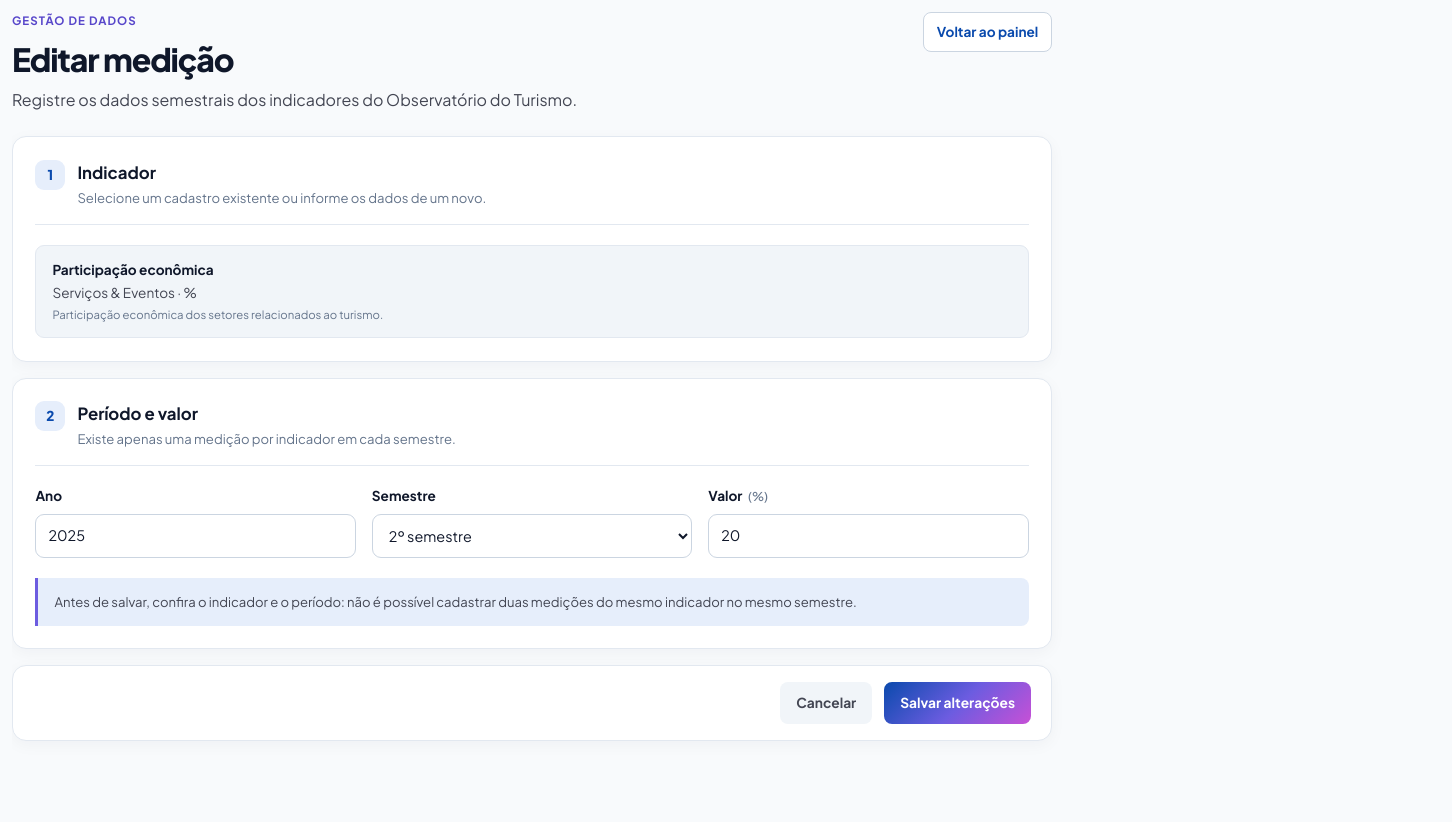
Test: AdminMedicaoFormPage › carrega uma medição existente na rota de edição e envia os campos editáveis
expect the heading "Editar medição" is shown: met, box top-left (12, 39), bottom-right (234, 79)
expect the text "Participação econômica" is shown: met, box top-left (52, 260), bottom-right (214, 278)
Replace the text in the number field labelled "Ano" with "2024" at (196, 536), box top-left (35, 514), bottom-right (356, 558)
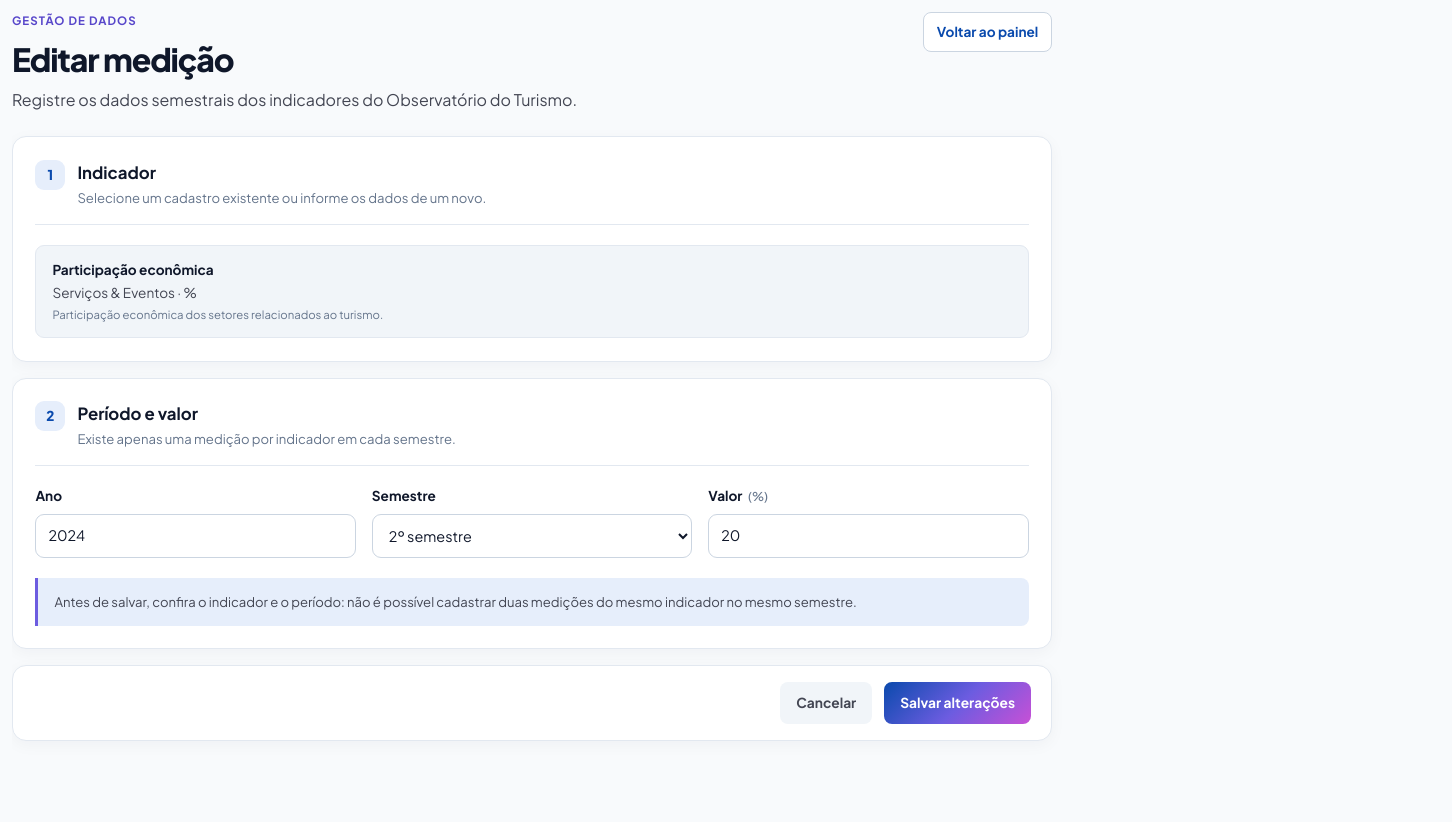
Select "2º semestre" in the dropdown labelled "Semestre" at (532, 536), box top-left (372, 514), bottom-right (692, 558)
Replace the text in the number field labelled "Valor" with "28" at (868, 536), box top-left (708, 514), bottom-right (1029, 558)
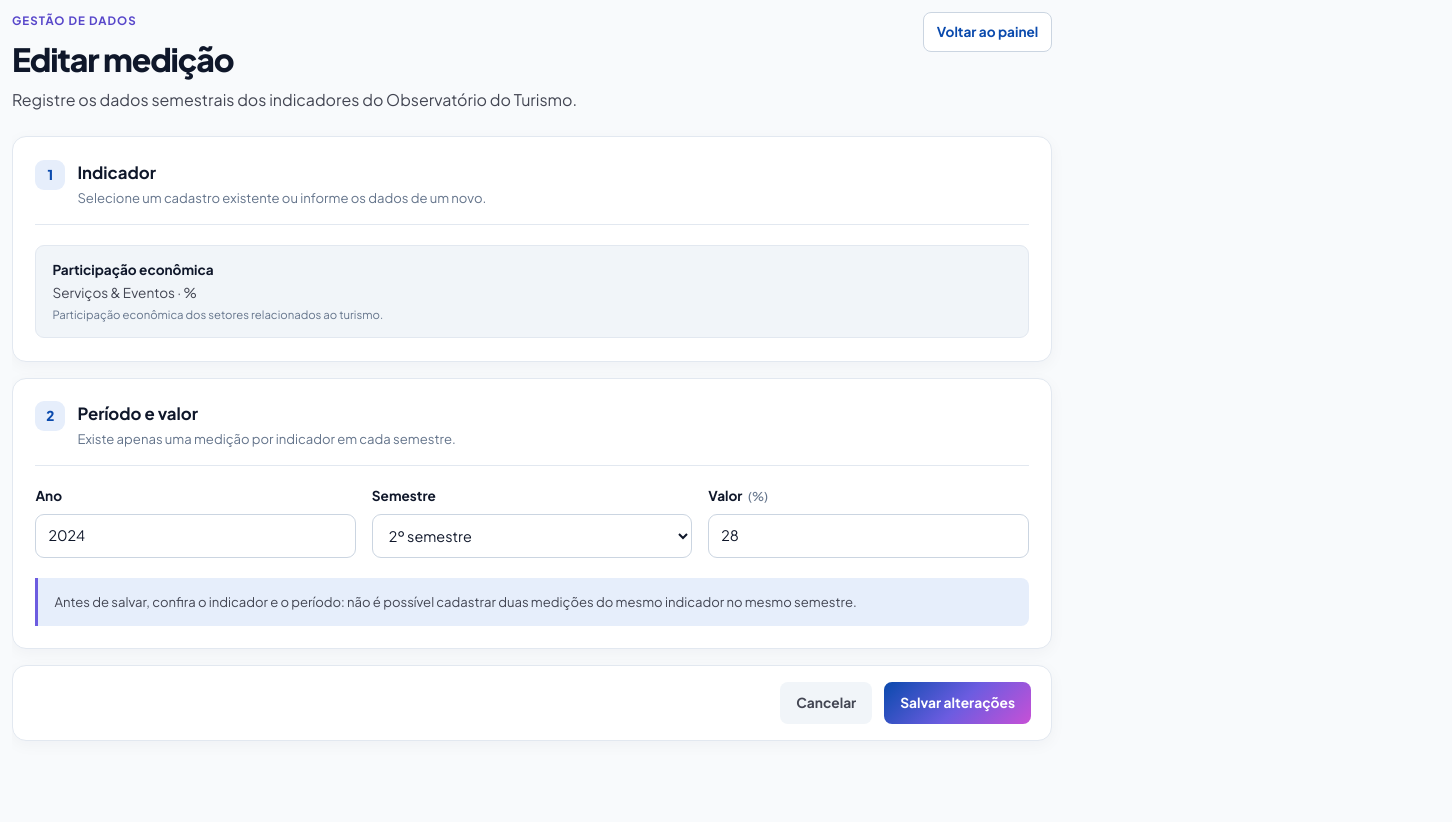
Click the button "Salvar alterações".
click(958, 703)  # box top-left (884, 682), bottom-right (1031, 724)
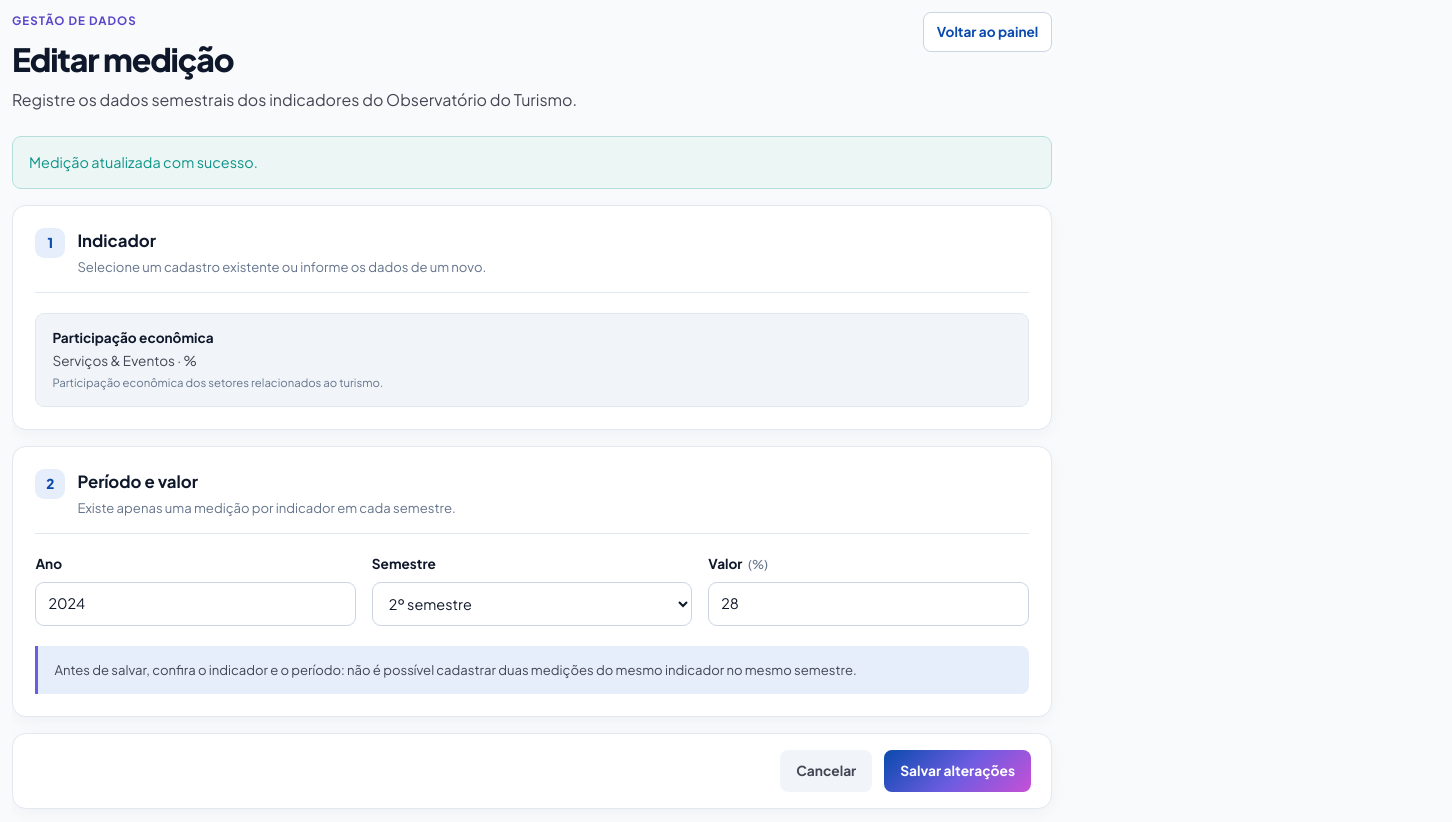
expect the message reads "Medição atualizada com sucesso.": met, box top-left (29, 153), bottom-right (258, 171)
